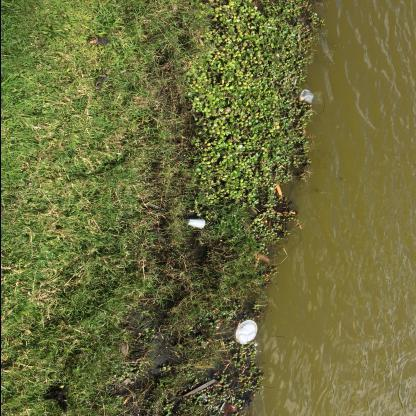karton: (186, 220, 205, 230)
kopuk: (236, 321, 258, 346)
plastik: (299, 91, 314, 105)
